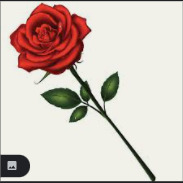RedRose: (0, 4, 95, 71)
